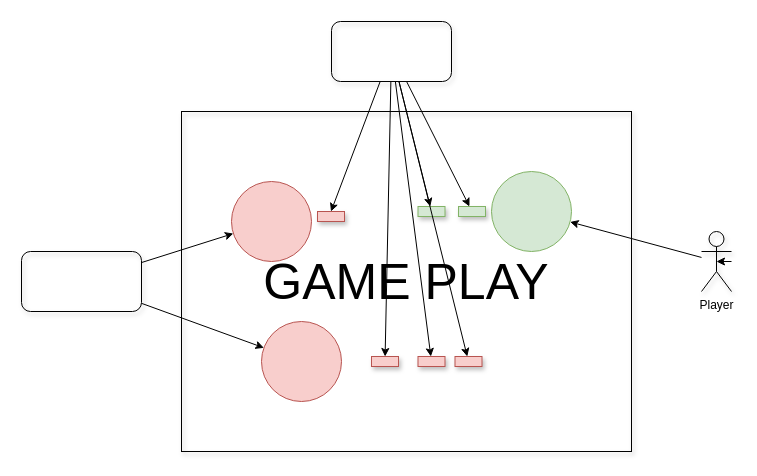
This 757x476 diagram has some shape labels left out. The shapes that lost their labels are listed below. From the top down, each one's centre as x and y in pixels, then its label:
At point (392, 52): "ObjectsPool (Bullets)".
At point (82, 282): "BotManager".
